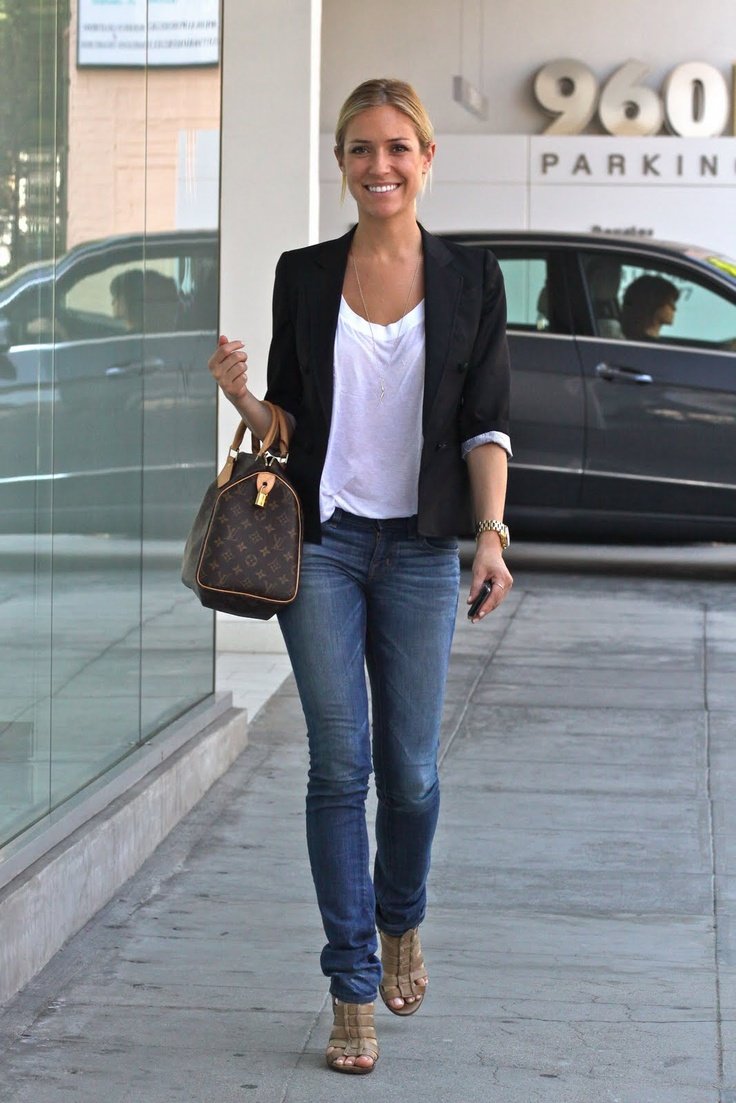F_W_suit jacket: (250, 215, 522, 570)
